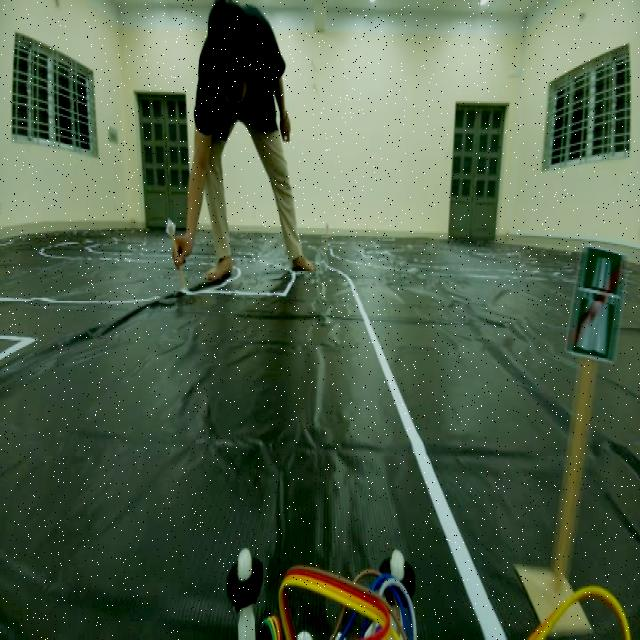highway_exit: (570, 242, 624, 374)
